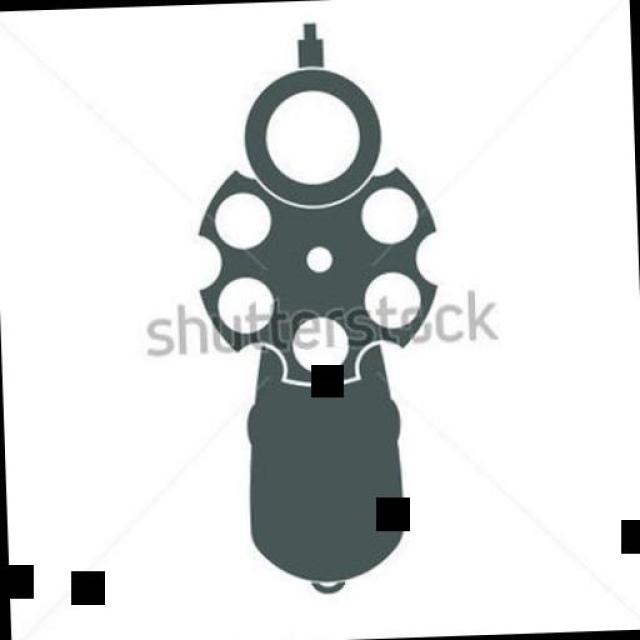gun: (184, 7, 446, 595)
